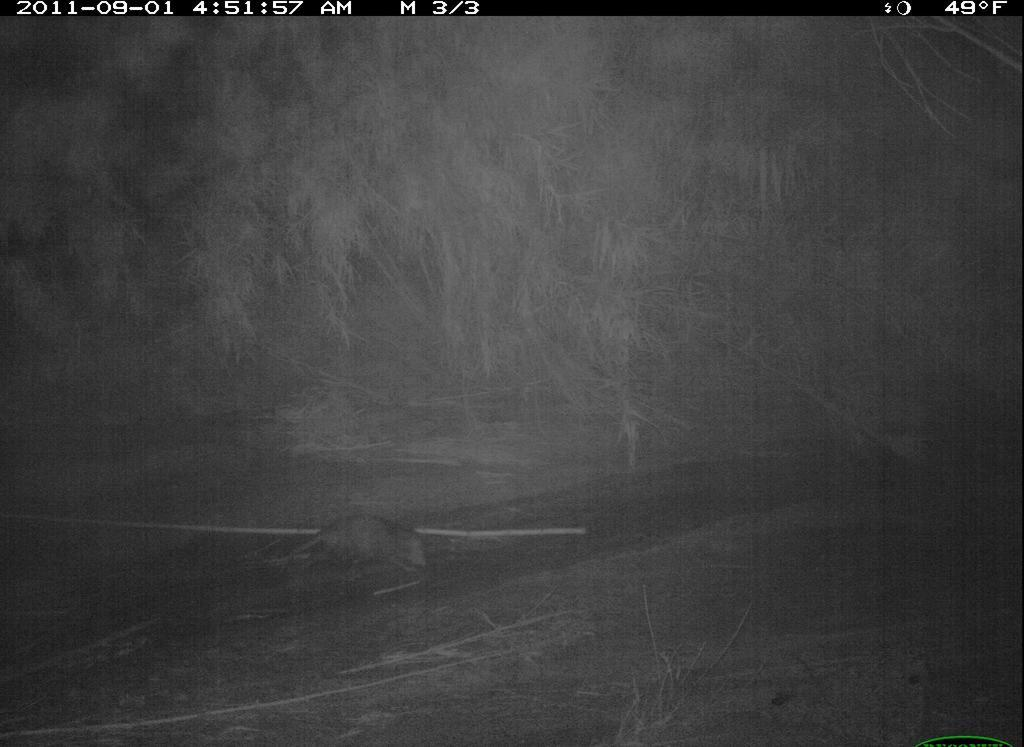opossum: (257, 516, 441, 596)
